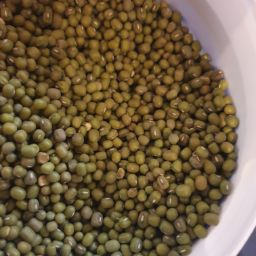Green gram dal(moong): (2, 42, 238, 210), (40, 13, 159, 256), (99, 22, 201, 256), (2, 3, 92, 256), (198, 63, 255, 232)
